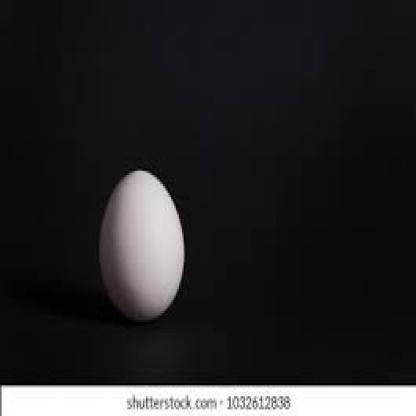egg: (98, 168, 186, 319)
